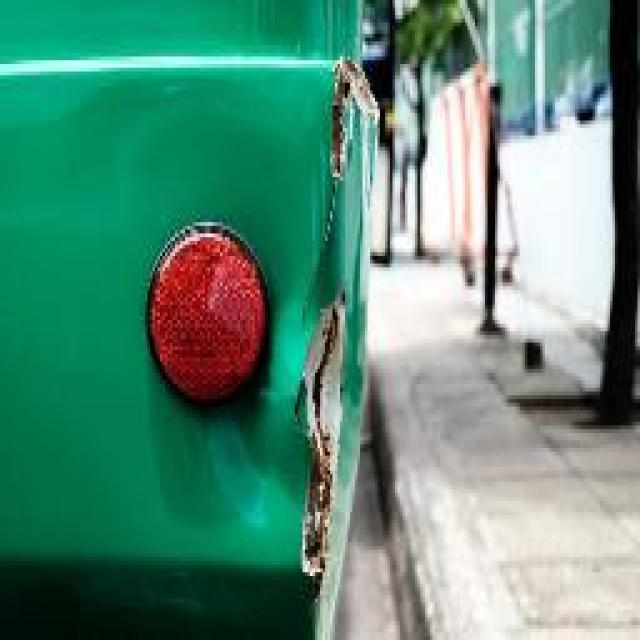Bumper: (222, 43, 402, 627)
